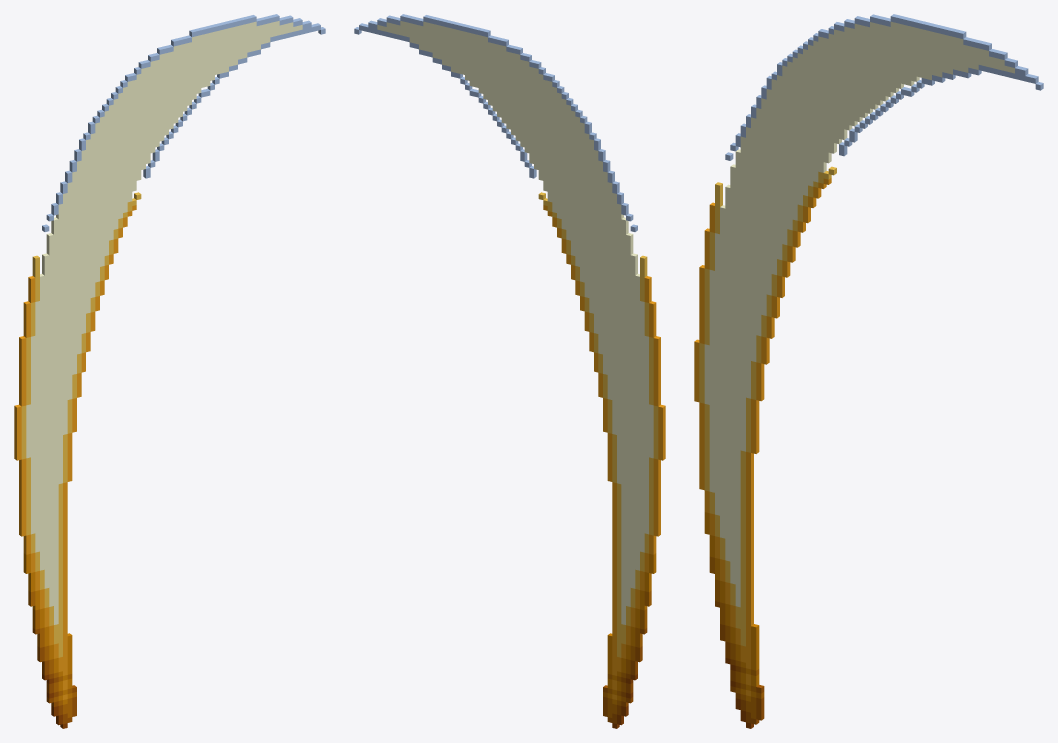
Rendered from Fight_018_2_13_fx.obj.
3 renders of one model, left to right at view 1: azimuth 30°, elevation 25°; view 2: azimuth 150°, elevation 25°; view 3: azimuth 330°, elevation 25°, orthographic. The views are drawn at different scales.
Size of the model in its own units: 6.7 by 13.8 by 0.1.
1 material, 1 textured.
